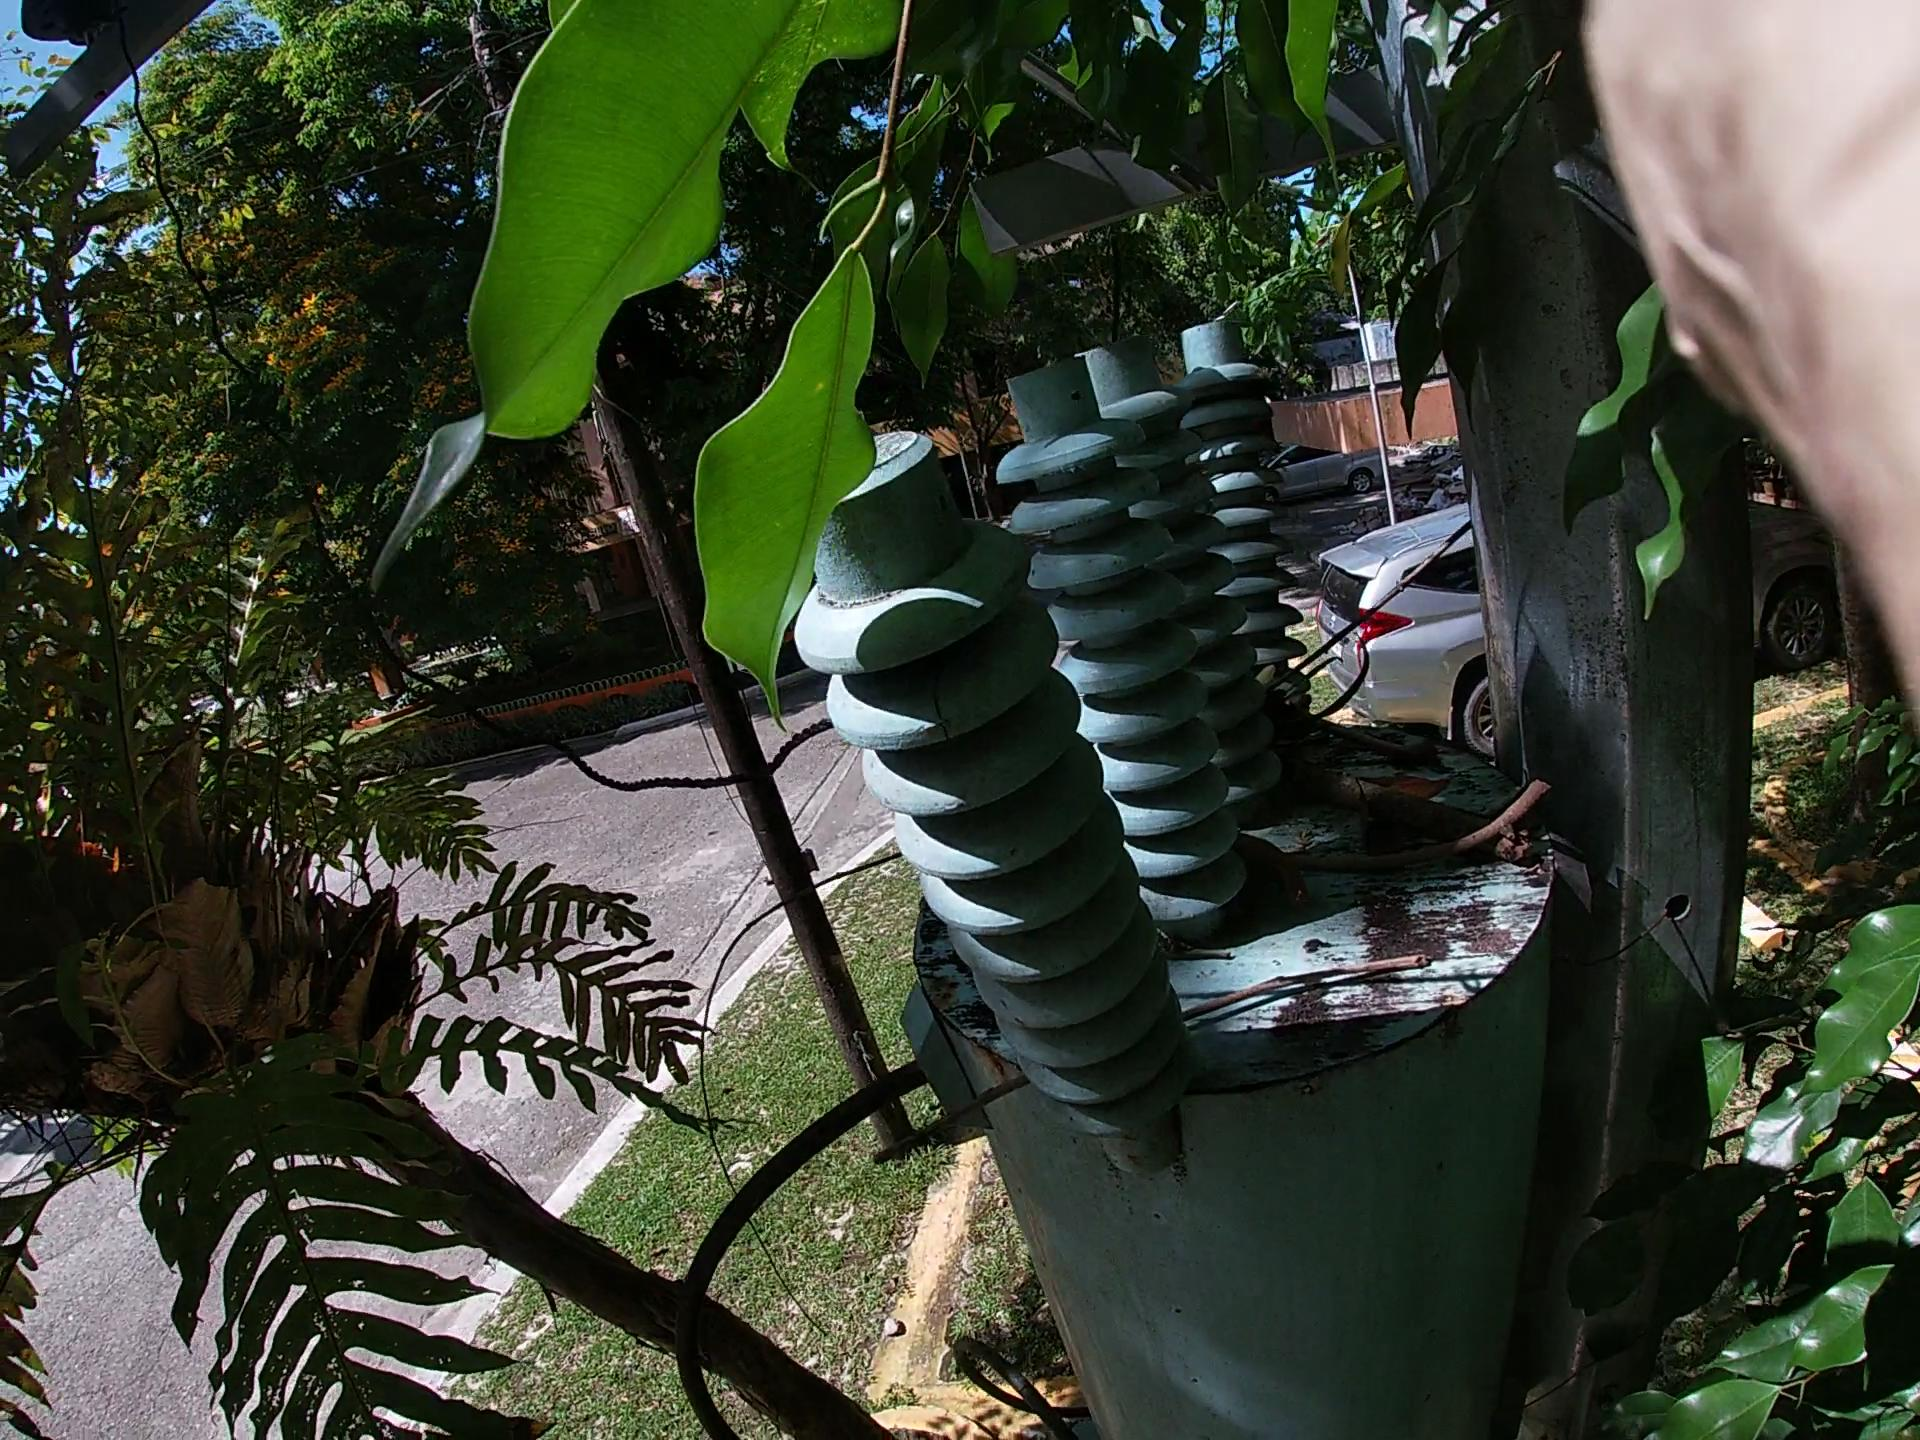leaf: (1336, 749, 1530, 830)
mahogany fruit: (1401, 796, 1539, 830), (1516, 791, 1539, 830)
tree branch: (500, 408, 1725, 1203), (999, 923, 1394, 1169), (1270, 725, 1610, 926), (1246, 806, 1545, 835)
